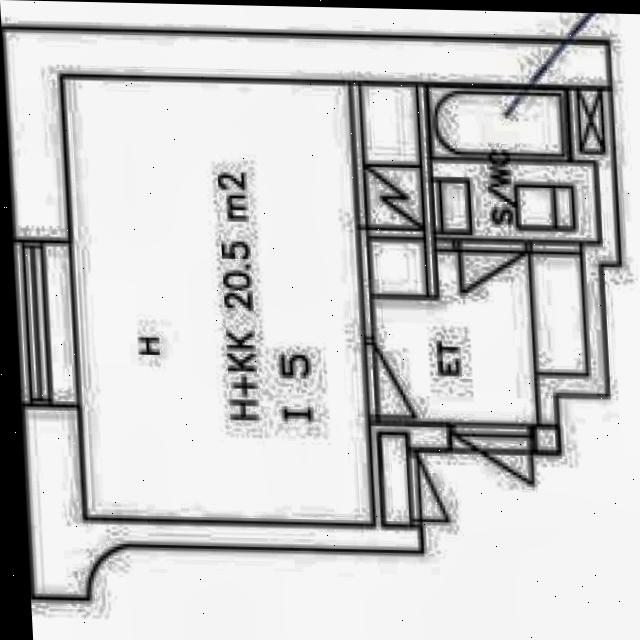room: (60, 62, 375, 541), (365, 240, 592, 428), (429, 83, 600, 244)
